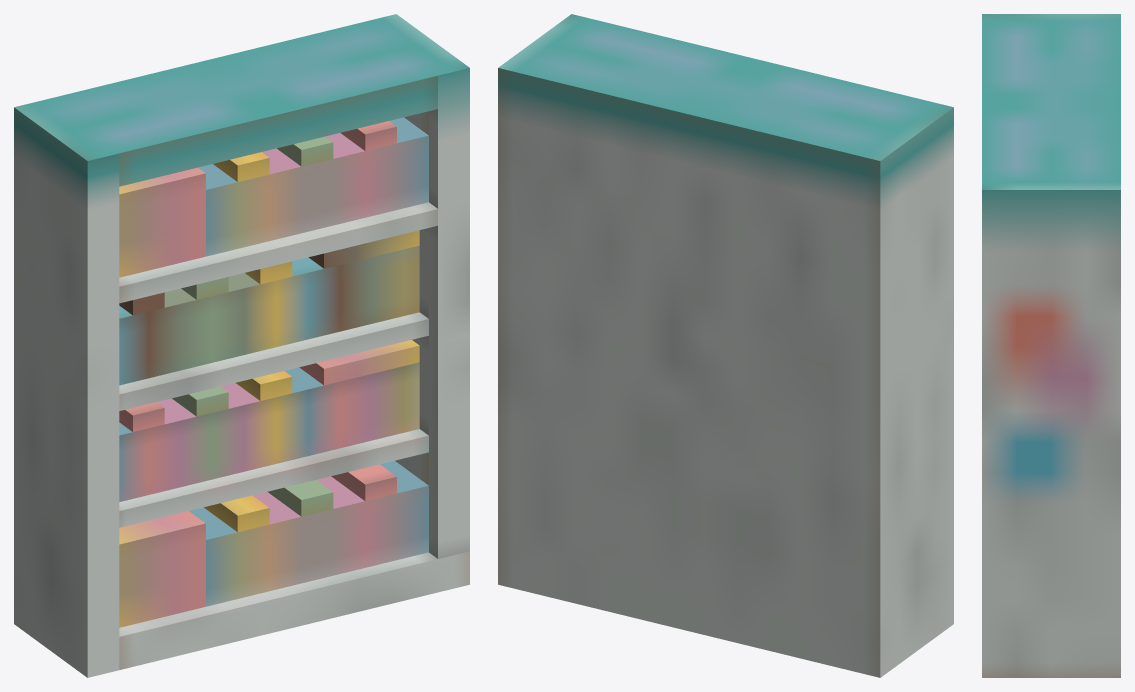
The model's file is BookshelfMini_Kid_00.fbx.
3 views of the same model, side by side, from view 1: azimuth 30°, elevation 25°; view 2: azimuth 150°, elevation 25°; view 3: azimuth 270°, elevation 25° (orthographic). The views are drawn at different scales.
Parts seen in each view (by area): view 1: BookshelfMini_Kid_00; view 2: BookshelfMini_Kid_00; view 3: BookshelfMini_Kid_00.
Boxes of the visible parts, x1,y1,x2,y2 form: BookshelfMini_Kid_00: [14, 14, 469, 677]; BookshelfMini_Kid_00: [498, 14, 953, 677]; BookshelfMini_Kid_00: [982, 14, 1120, 677].
Bounding box in the file's own units: 120 × 40 × 155.
1 material, 1 textured.
